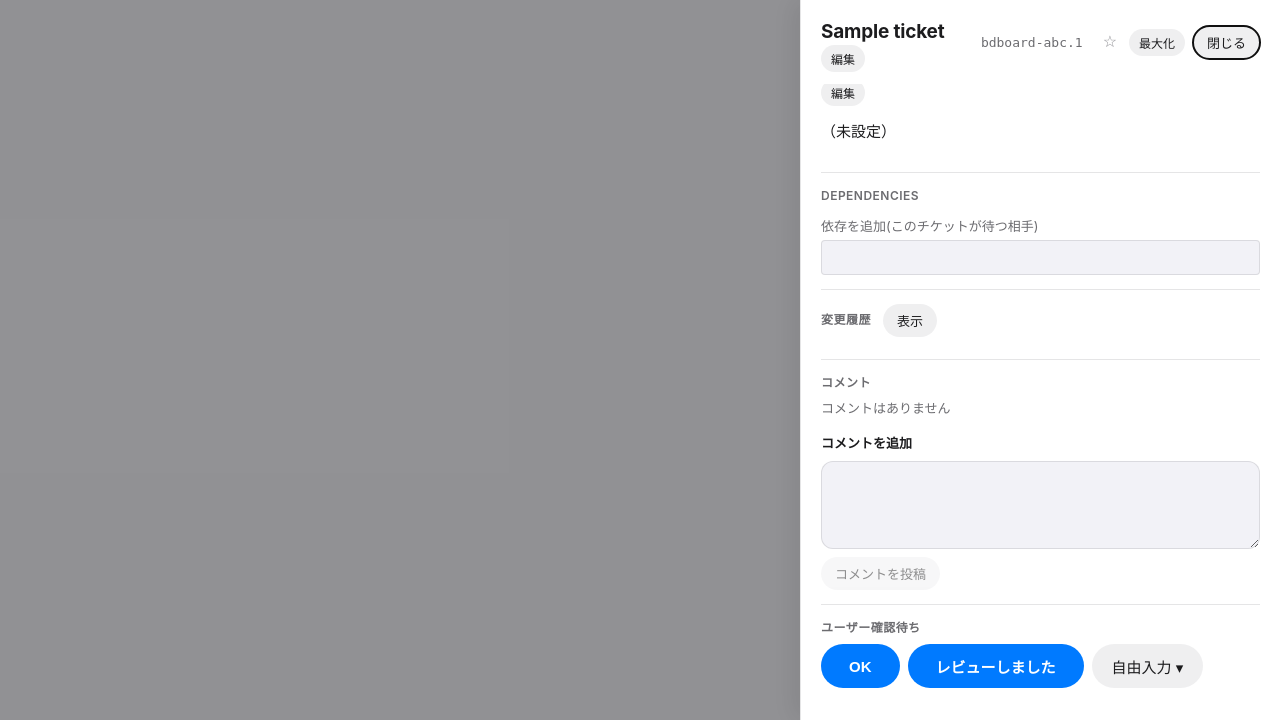
Test: TicketDetailPanel pending decisions › shows unknown outcome message when the server could not resolve decision kind
The width and height of the screenshot is (1280, 720).
(page scrolled)
Click the button "自由入力 ▾" at (1147, 666), box [1092, 644, 1203, 688]
(page scrolled)
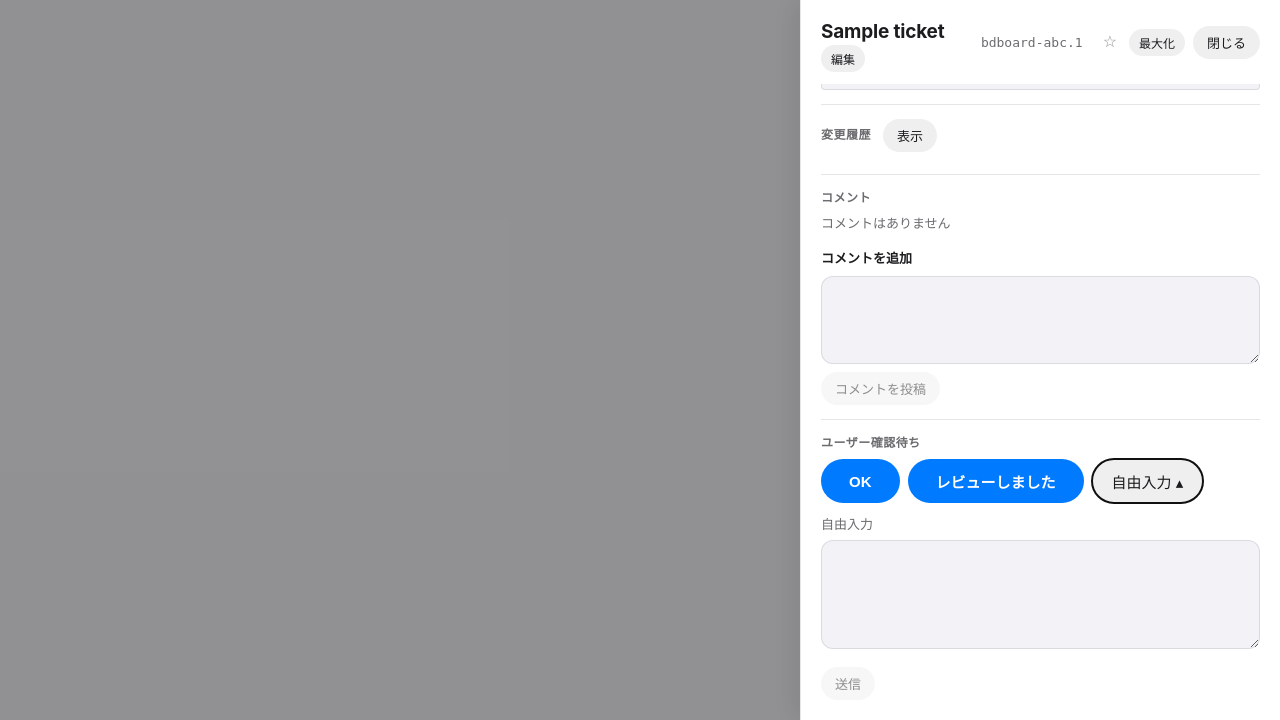
Type "再試行前の回答" into the text box labelled "自由入力" at (1040, 595), box [821, 540, 1260, 649]
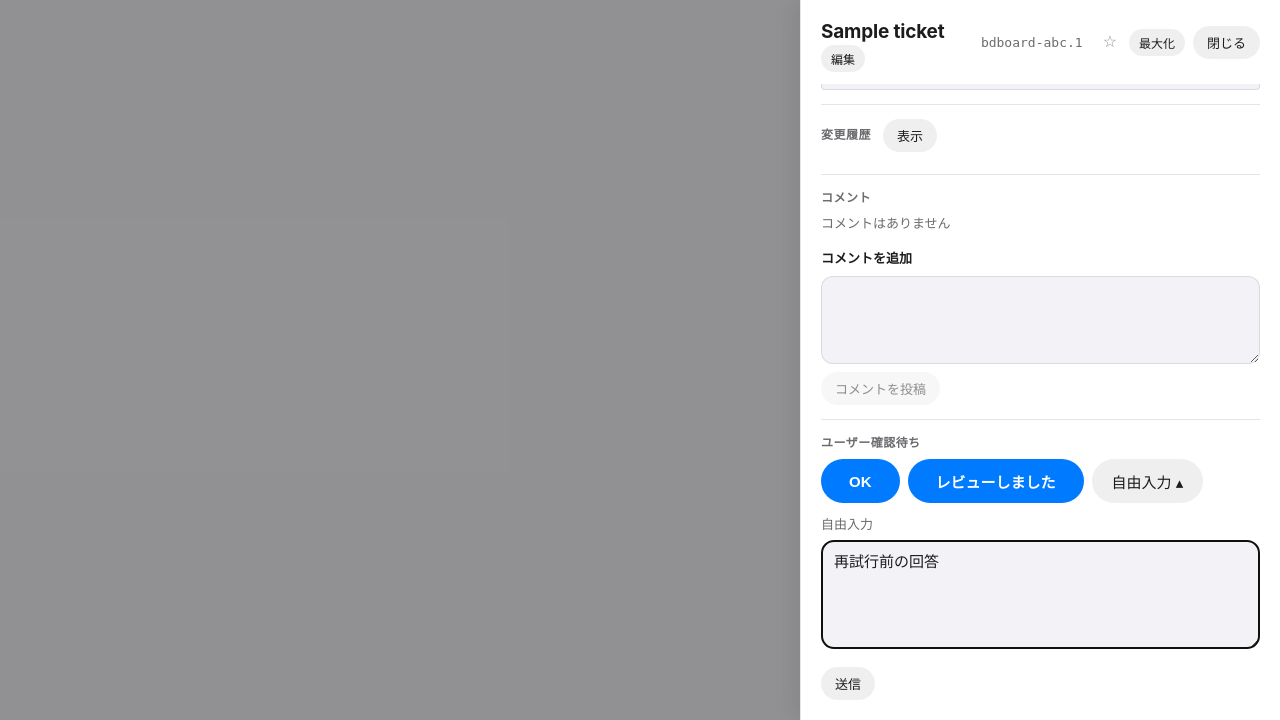
Click the button "送信" at (848, 684), box [821, 667, 875, 700]
(page scrolled)
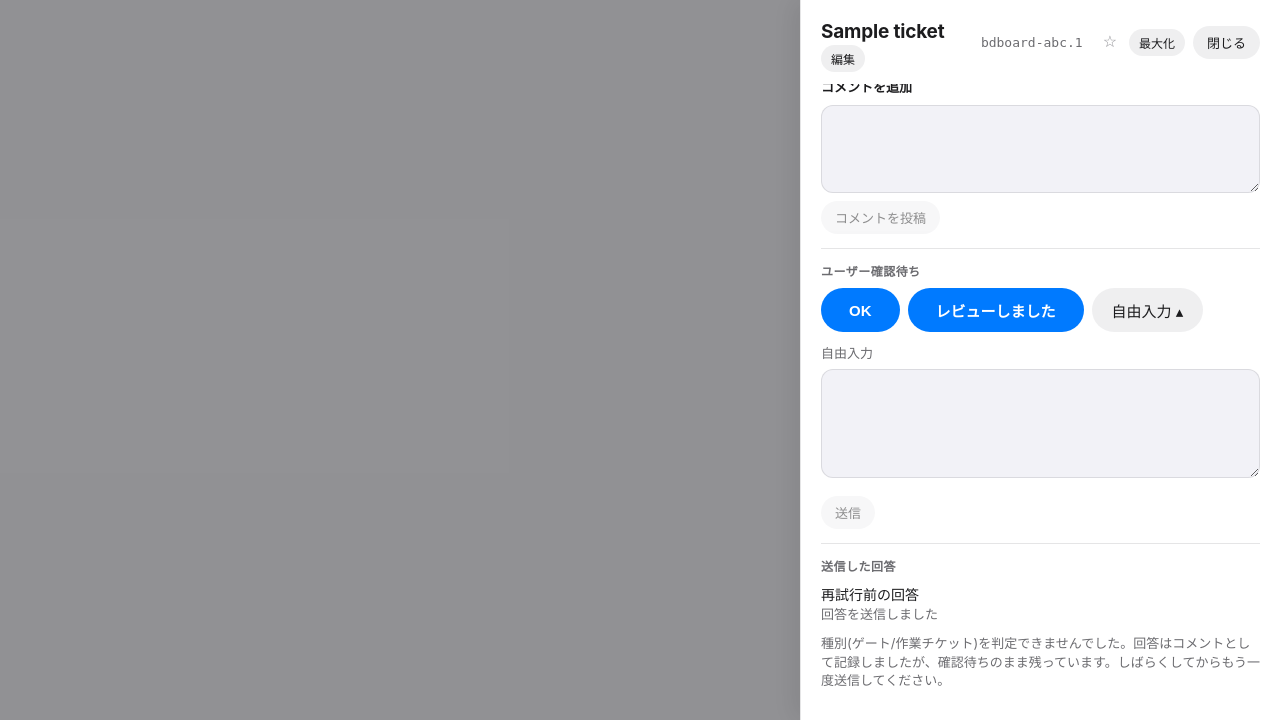
expect the text "種別(ゲート/作業チケット)を判定できませんでした。回答はコメントとして記録しましたが、確認待ちのまま残っています。しばらくしてからもう一度送信してください。" is shown: met, box [821, 634, 1260, 690]
